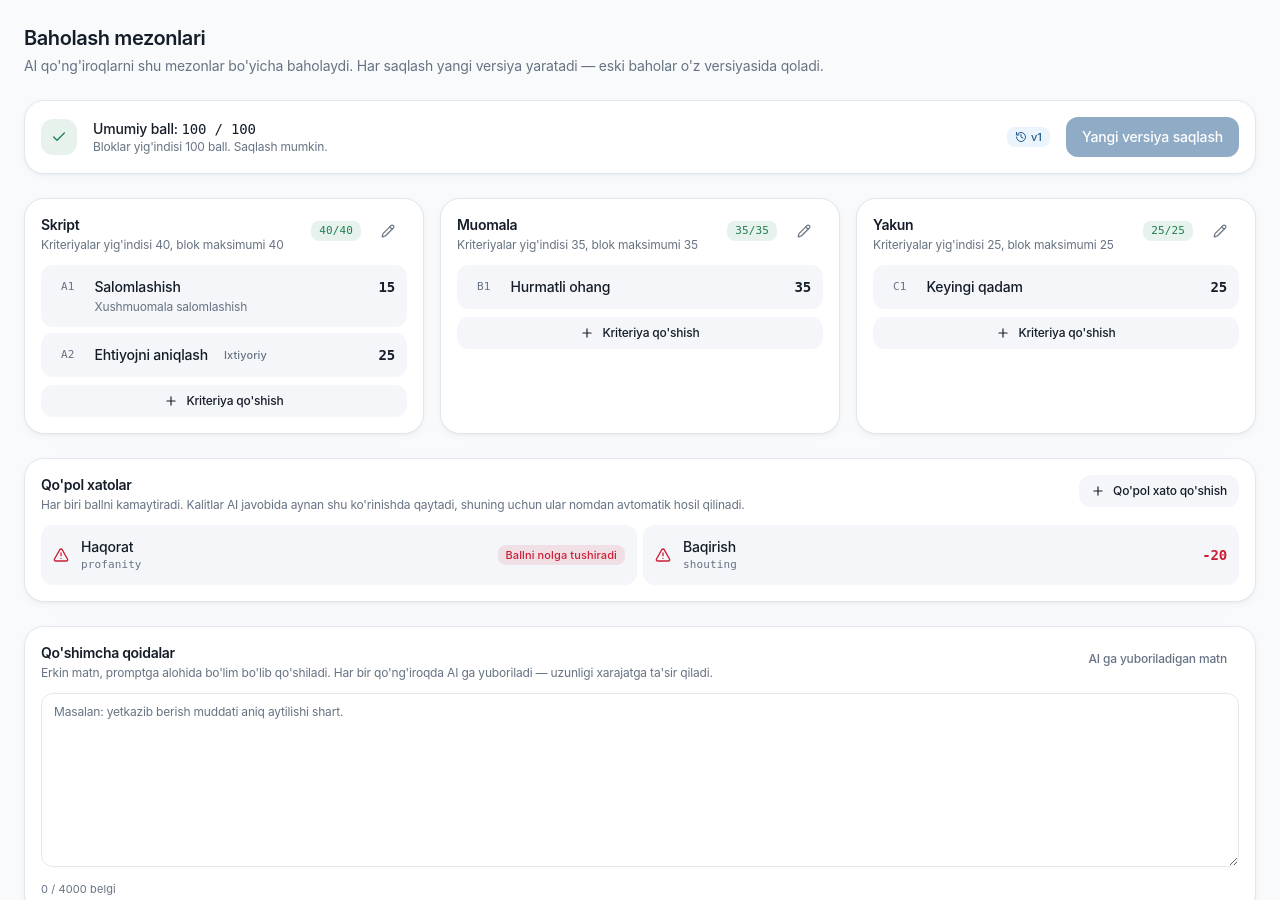
it: editing › keeps the save button dead while the blocks do not total a hundred
The image size is (1280, 900).
Click the button named "Blokni tahrirlash" in the row of "Skript". click: (388, 231)
box: 369,215 -> 407,247
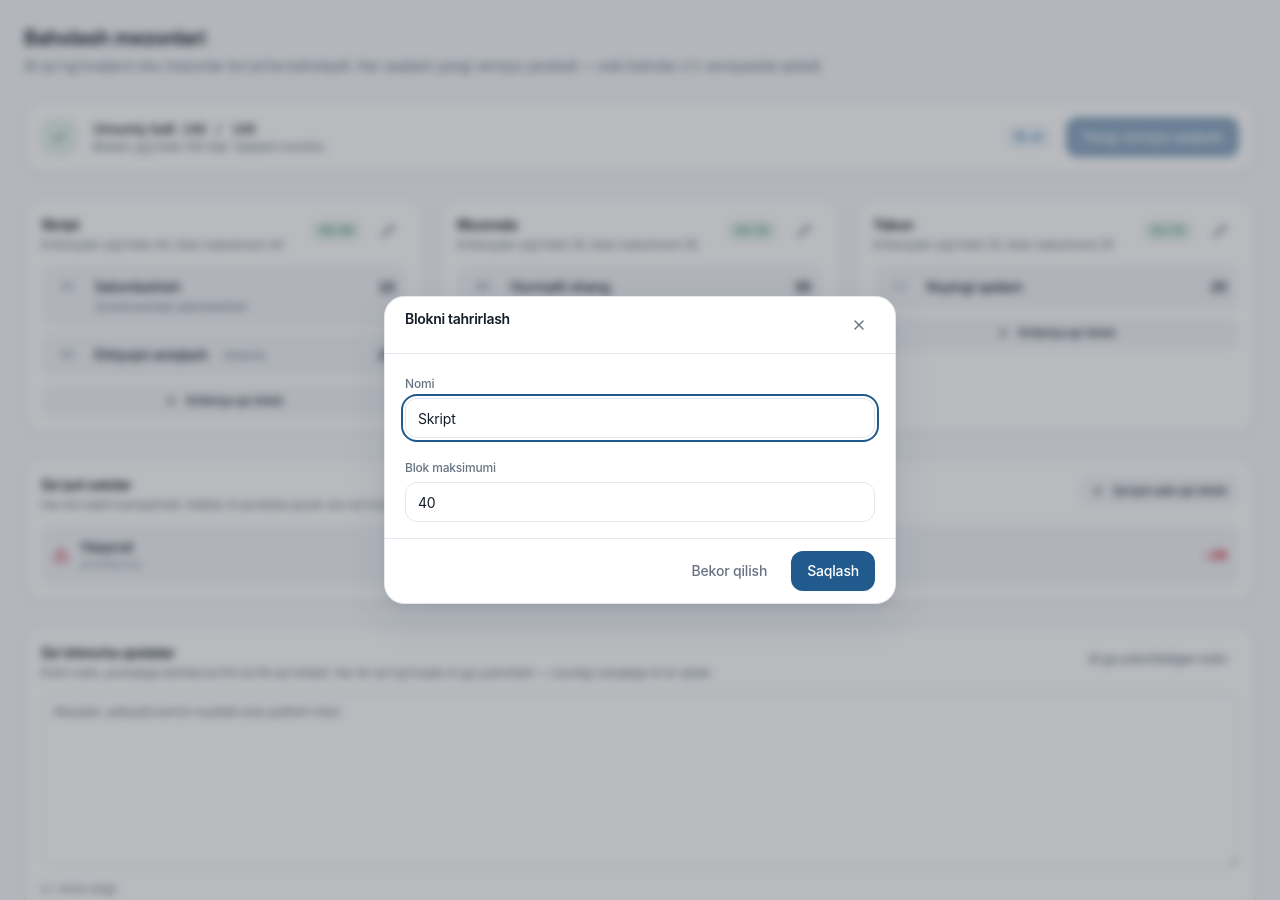
Replace the text in the number field labelled "Blok maksimumi" with "35". click: (640, 502)
box: 405,482 -> 875,522
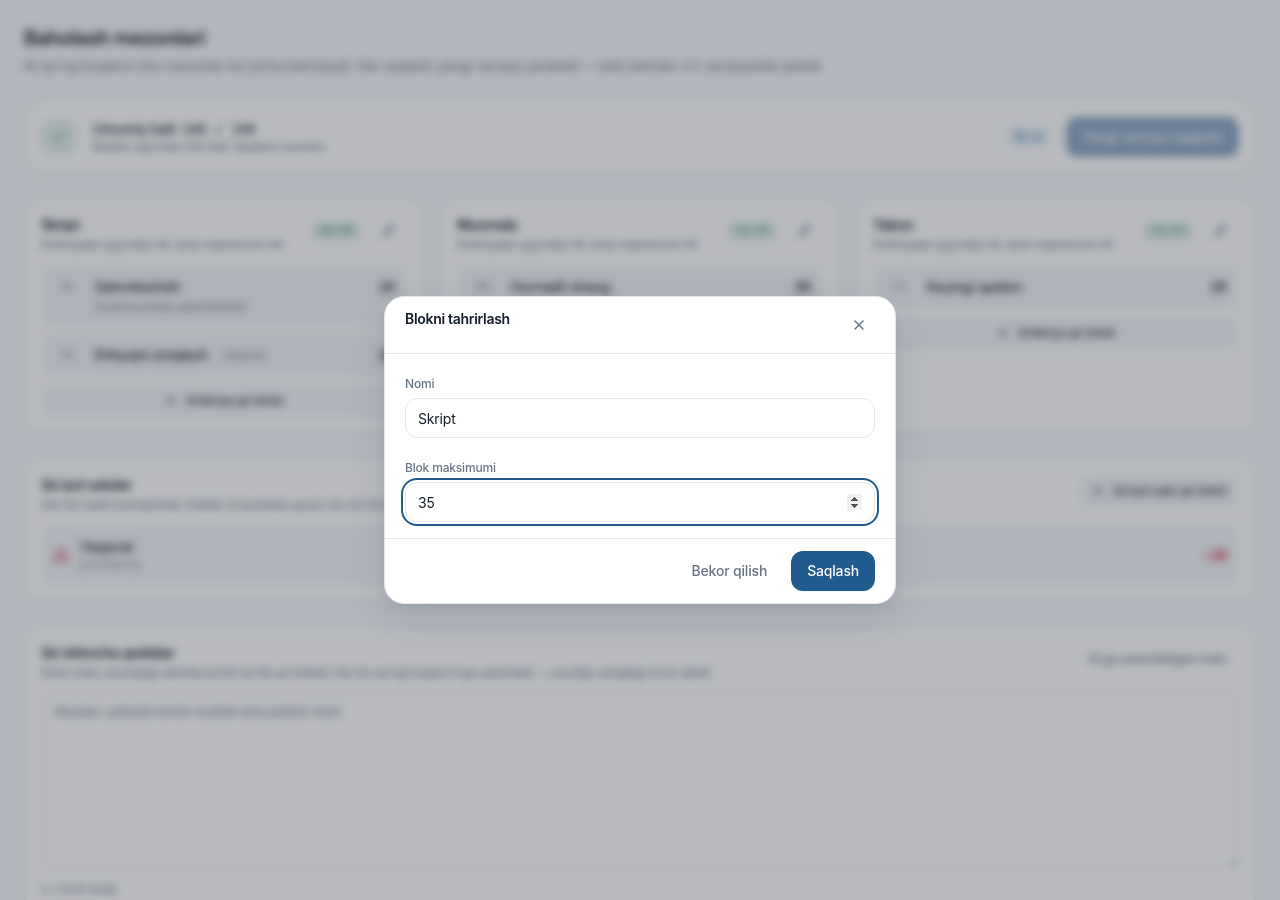
Click the button "Saqlash". click: (833, 571)
box: 791,551 -> 875,591
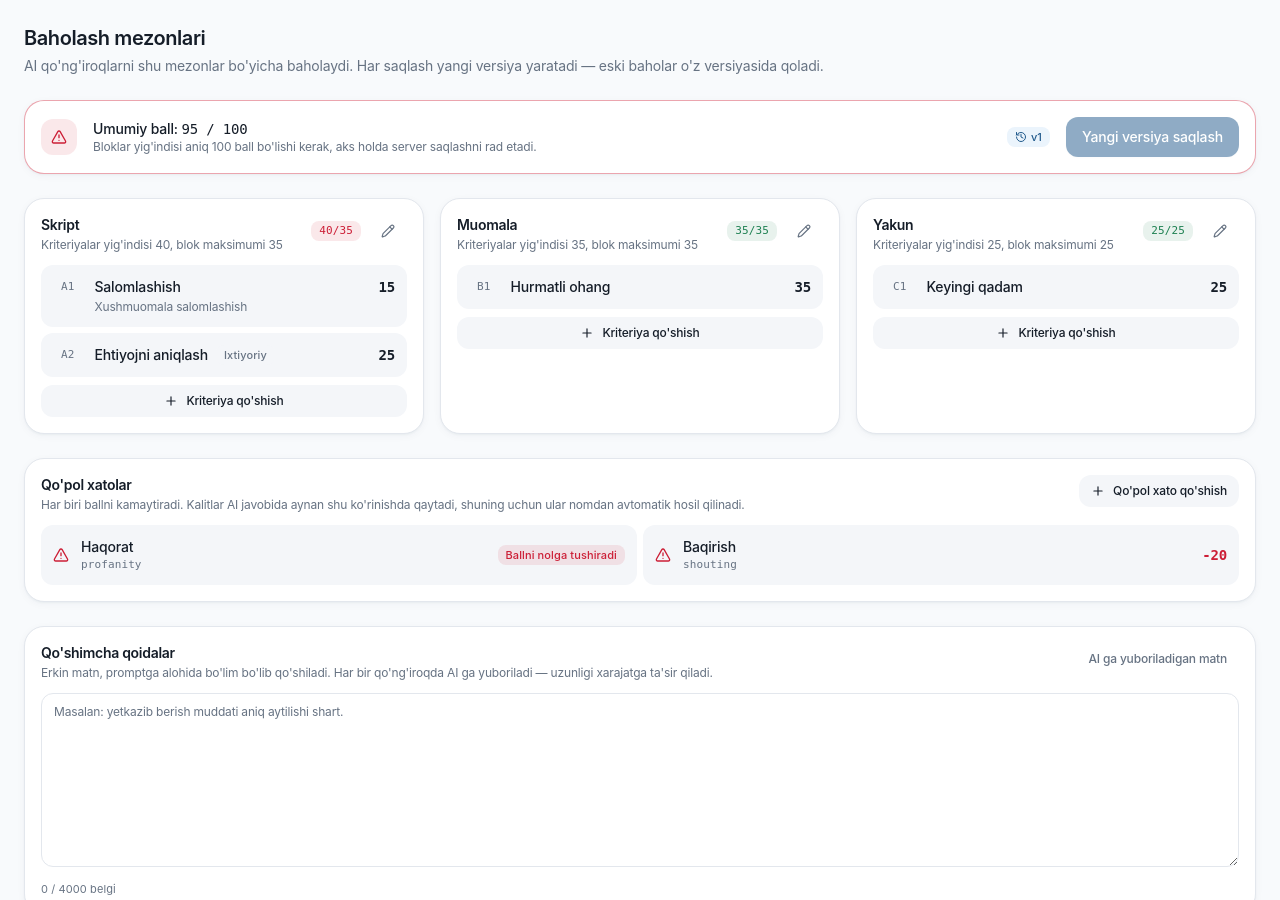
Check: the button "Yangi versiya saqlash" is disabled, box 1066,117 -> 1239,157
Check: the text "Bloklar yig'indisi aniq 100 ball bo'lishi kerak, aks holda server saqlashni rad etadi." is shown, box 93,139 -> 536,154
